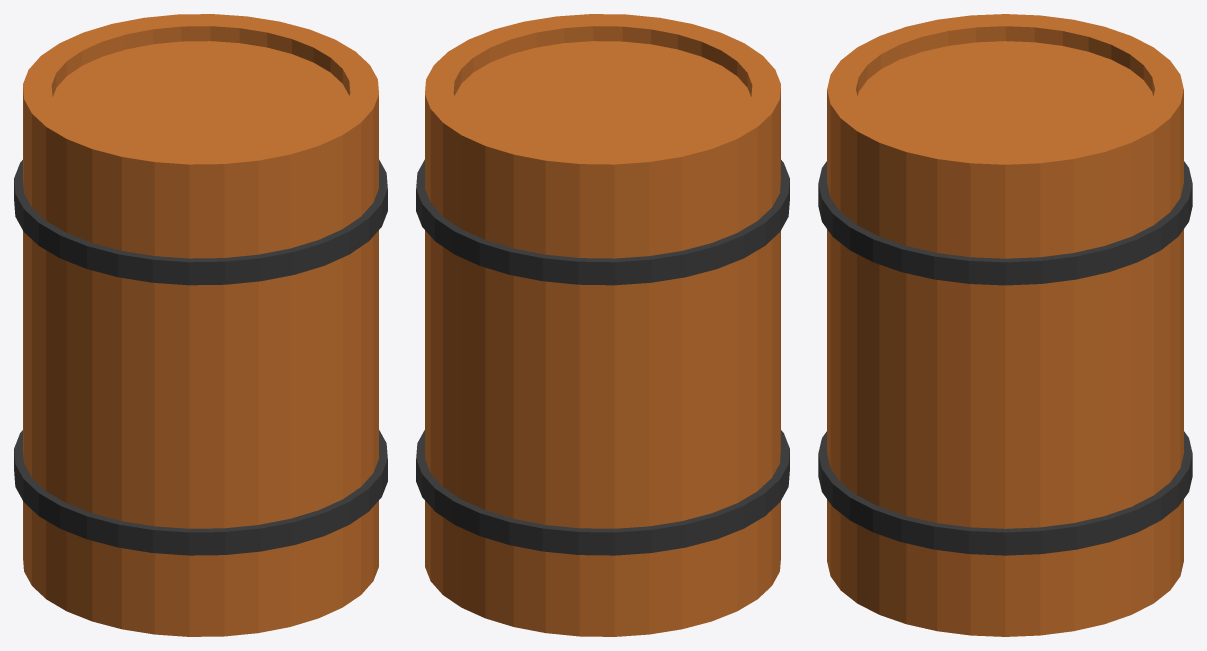
The model's file is Barrel2.fbx.
3 views of the same model, side by side, from view 1: azimuth 30°, elevation 25°; view 2: azimuth 150°, elevation 25°; view 3: azimuth 270°, elevation 25° (orthographic).
Visible parts, largest first — view 1: Cylinder; view 2: Cylinder; view 3: Cylinder.
Boxes of the visible parts, left/top/right/bottom form: Cylinder: left=14, top=14, right=387, bottom=636; Cylinder: left=416, top=14, right=789, bottom=636; Cylinder: left=818, top=14, right=1192, bottom=636.
Size of the model in its own units: 210 by 292 by 210.
